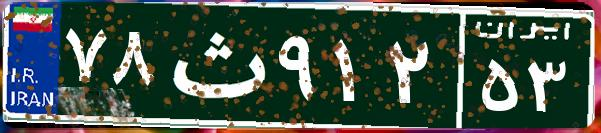1: (330, 28, 385, 110)
2: (385, 28, 445, 110)
3: (525, 38, 570, 115)
5: (475, 38, 525, 113)
7: (57, 26, 110, 107)
8: (110, 28, 158, 105)
9: (273, 28, 330, 110)
ث: (158, 15, 273, 115)
